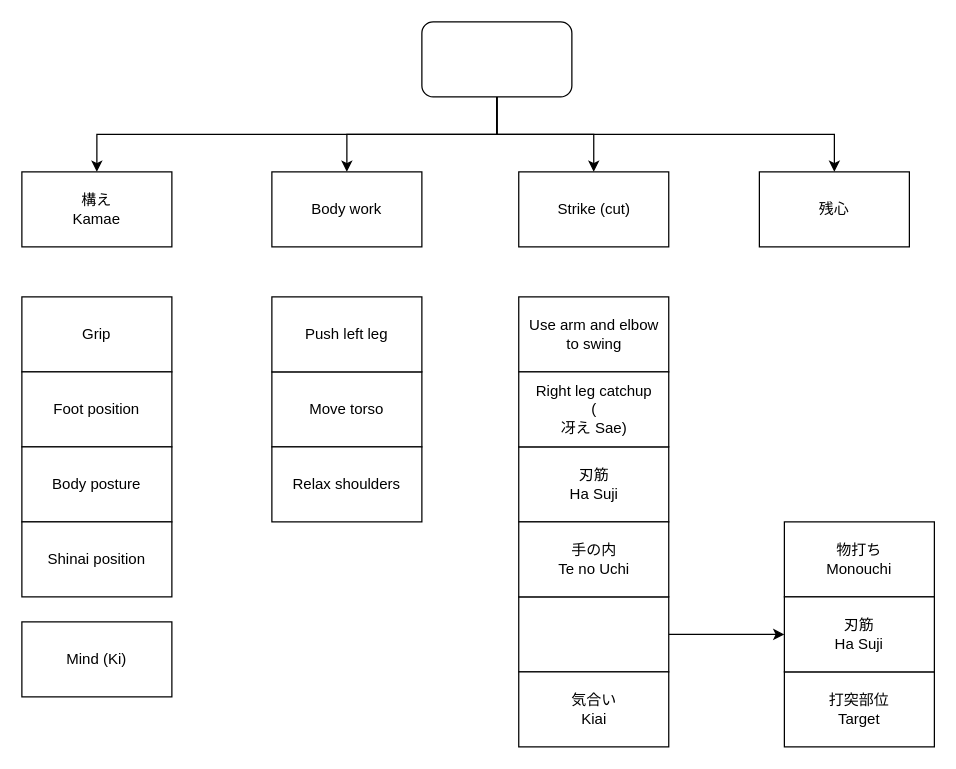
The diagram is 956 pixels wide and 769 high, and some of its shapes have lost their labels. The shapes that lost their labels are listed below. From the top down, each one's centre as x and y in pixels, then its label:
At (496,59): "素振り Suburi".
At (593,634): "Ken".
